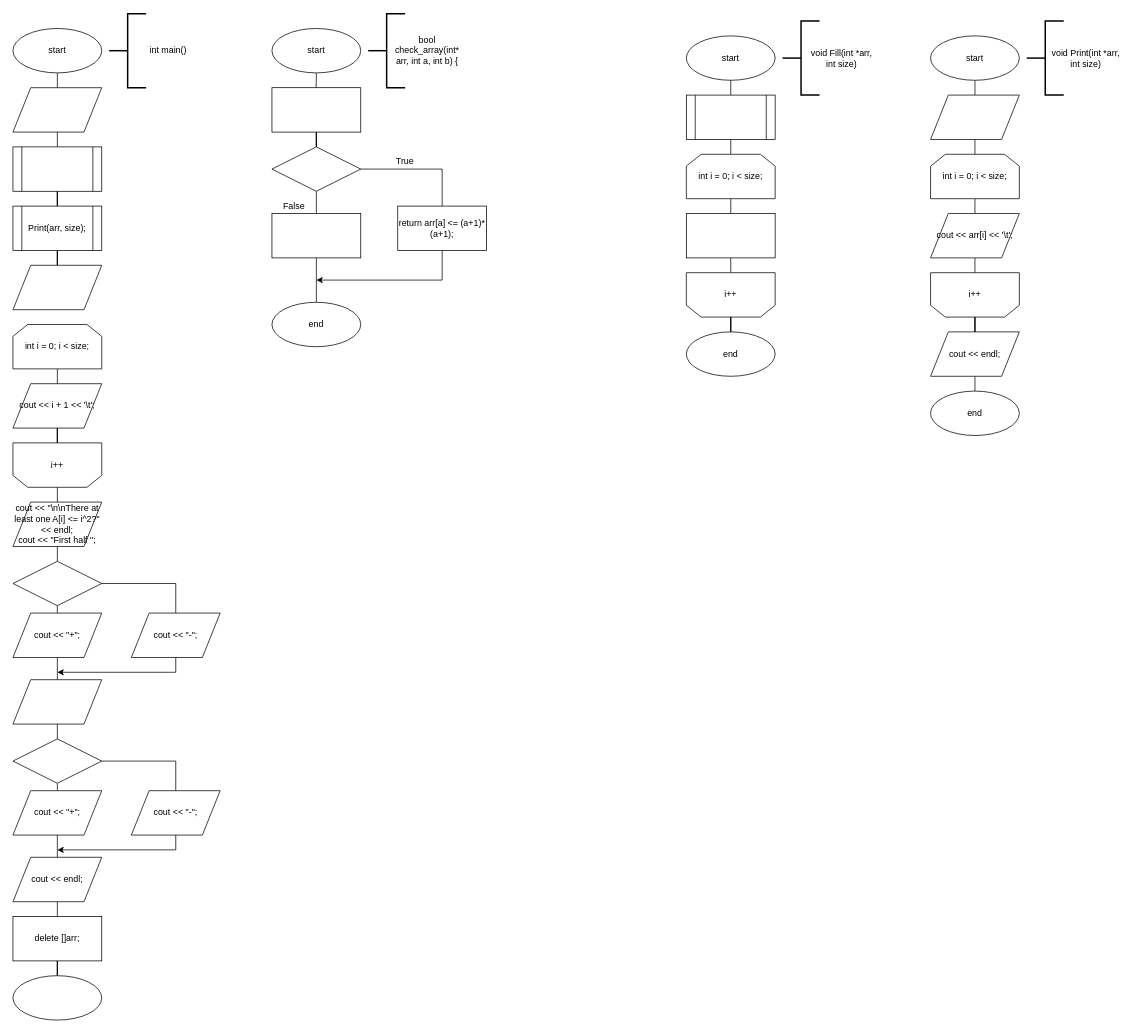
This 1136x1033 diagram has some shape labels left out. The shapes that lost their labels are listed below. From the top down, each one's centre as x and y in pixels, then its label:
(x=57, y=109): int size; cout << "Size "; cin >> size; int *arr = new int[size];
(x=316, y=109): t = arr[a] <= (a+1)*(a+1);
(x=730, y=116): srand(time(0));
(x=974, y=116): cout << "arr:\t";
(x=57, y=168): Fill(arr, size);
(x=316, y=168): a == b
(x=316, y=235): return t || check_array(arr, a + 1, b);
(x=730, y=235): arr[i] = rand()%101;
(x=57, y=287): cout << "i:\t";
(x=57, y=583): check_array(arr, 0, size/2-1)
(x=57, y=701): cout << endl; cout << "Second half ";
(x=57, y=760): check_array(arr, size/2, size-1)
(x=57, y=997): return 0
